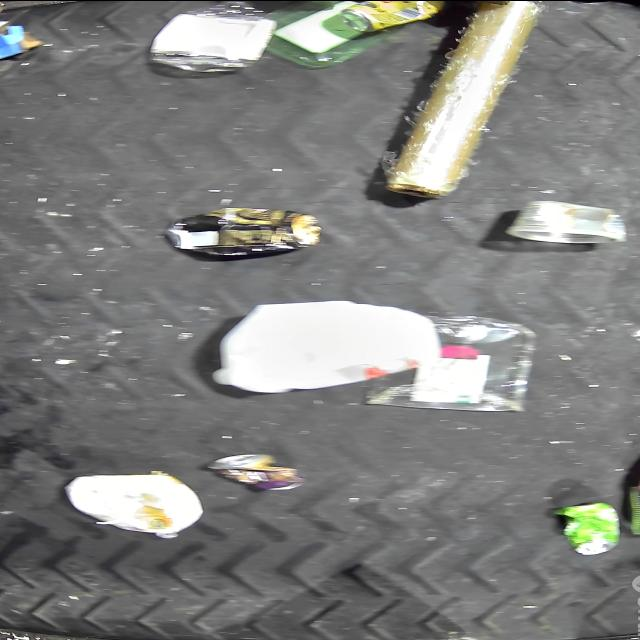can: (172, 209, 322, 255), (210, 451, 307, 491), (554, 502, 620, 554), (341, 0, 443, 32), (630, 485, 640, 536)
milk_jug: (212, 298, 442, 392), (65, 473, 203, 533)
